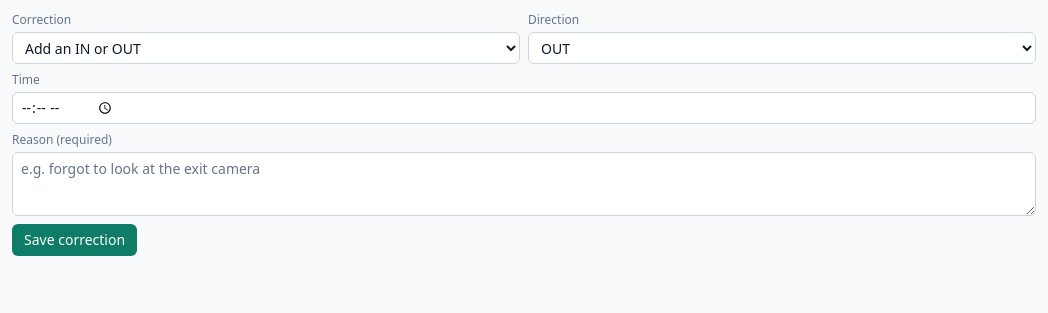
Test case: correction form › shows the API's refusal
Type "23:59" into the time field labelled "Time". click: {"x": 524, "y": 108}
box: x1=12 y1=92 x2=1036 y2=124
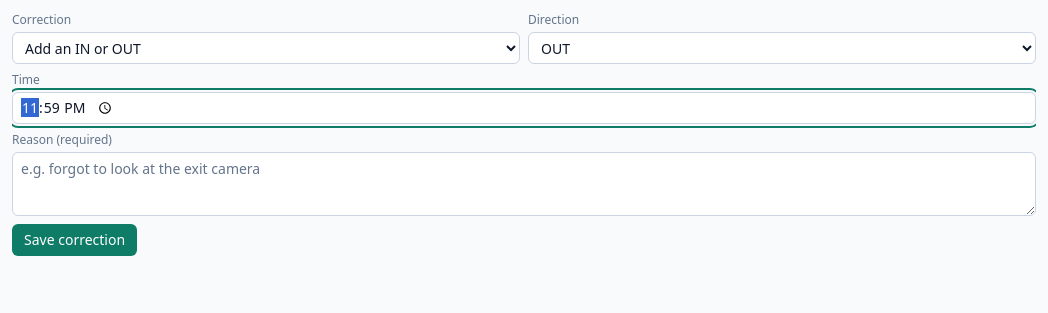
Type "x" into the text box labelled "Reason (required)". click: {"x": 524, "y": 184}
box: x1=12 y1=152 x2=1036 y2=216
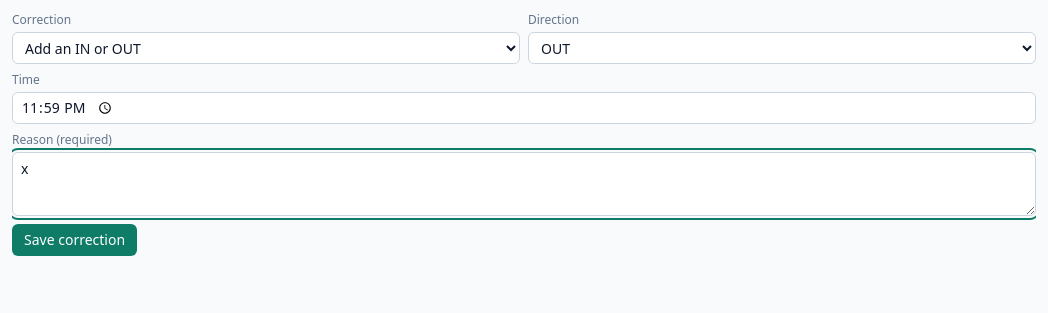
Click the button "Save correction". click: {"x": 75, "y": 240}
box: x1=12 y1=224 x2=137 y2=256
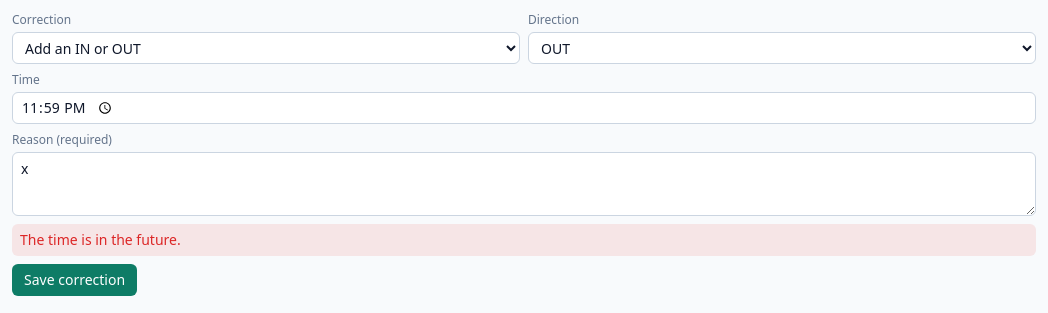
Result: the message reads "The time is in the future." at x1=20 y1=230 x2=181 y2=249
